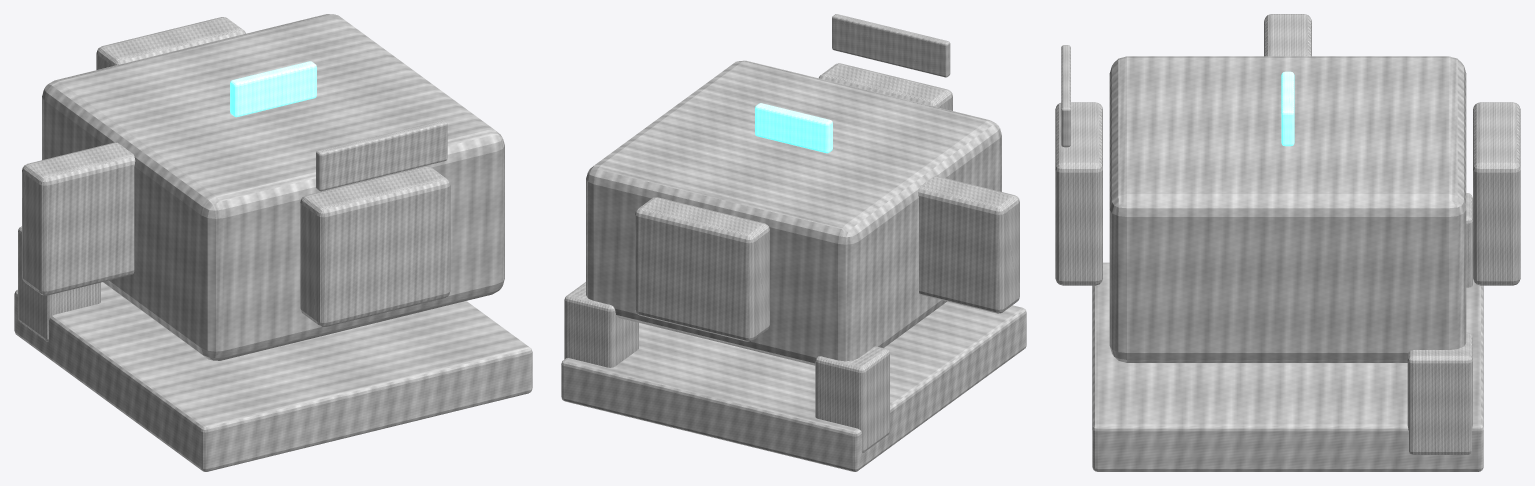
The model's file is conveyor_splitter_variant_d.glb.
The picture shows the model from 3 angles, left to right: view 1: azimuth 30°, elevation 25°; view 2: azimuth 150°, elevation 25°; view 3: azimuth 270°, elevation 25°; orthographic projection. The views are drawn at different scales.
Visible parts, largest first — view 1: Junction body.003, Foundation.003, Conveyor port.010, Conveyor port, Asset ID plate, Logic indicator.003, Conveyor port.011, Service foot.006; view 2: Junction body.003, Foundation.003, Conveyor port.011, Conveyor port, Service foot.006, Asset ID plate, Service foot.007, Logic indicator.003, Conveyor port.010; view 3: Junction body.003, Foundation.003, Conveyor port.011, Conveyor port.010, Service foot.007, Conveyor port, Logic indicator.003, Asset ID plate, Service foot.006.
Part boxes in pixels (<box>): Junction body.003: <box>42,14,504,360</box>; Foundation.003: <box>14,282,532,471</box>; Conveyor port.010: <box>300,166,450,326</box>; Conveyor port: <box>22,142,135,295</box>; Asset ID plate: <box>316,120,447,191</box>; Logic indicator.003: <box>230,61,316,117</box>; Conveyor port.011: <box>96,17,245,69</box>; Service foot.006: <box>18,226,100,341</box>; Junction body.003: <box>586,60,1001,365</box>; Foundation.003: <box>561,301,1026,471</box>; Conveyor port.011: <box>635,197,769,341</box>; Conveyor port: <box>918,176,1019,313</box>; Service foot.006: <box>815,346,889,452</box>; Asset ID plate: <box>832,14,950,77</box>; Service foot.007: <box>564,282,638,367</box>; Logic indicator.003: <box>755,103,832,153</box>; Conveyor port.010: <box>819,63,952,110</box>; Junction body.003: <box>1109,56,1466,362</box>; Foundation.003: <box>1092,262,1483,471</box>; Conveyor port.011: <box>1473,102,1520,285</box>; Conveyor port.010: <box>1055,102,1102,285</box>; Service foot.007: <box>1407,332,1472,454</box>; Conveyor port: <box>1264,14,1311,56</box>; Logic indicator.003: <box>1281,71,1294,146</box>; Asset ID plate: <box>1061,45,1070,147</box>; Service foot.006: <box>1466,193,1472,287</box>.
Size of what is drawn, in the model's own units: 2.23 by 1.6 by 2.14.
Materials: 6 (6 with a texture image).
